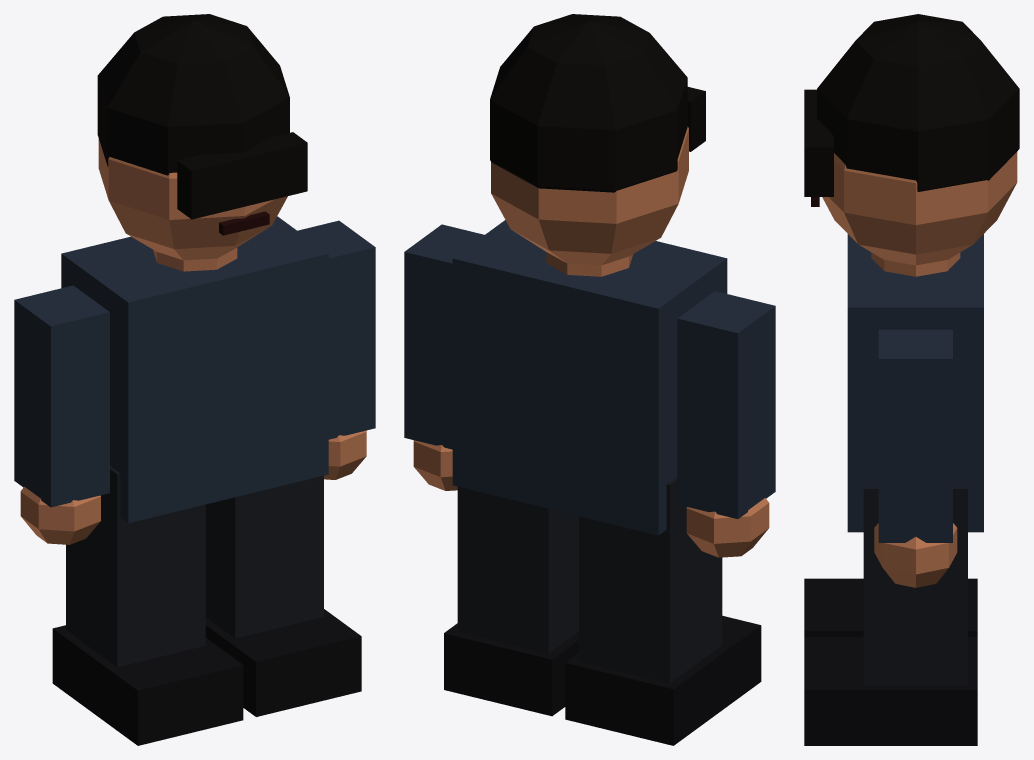
Rendered from LowPolyPlayer.obj.
3 views of the same model, side by side, from view 1: azimuth 30°, elevation 25°; view 2: azimuth 150°, elevation 25°; view 3: azimuth 270°, elevation 25° (orthographic). The views are drawn at different scales.
Bounding box in the file's own units: 1.59 × 2.98 × 0.8689.
